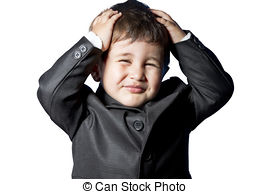face: (80, 1, 174, 116)
